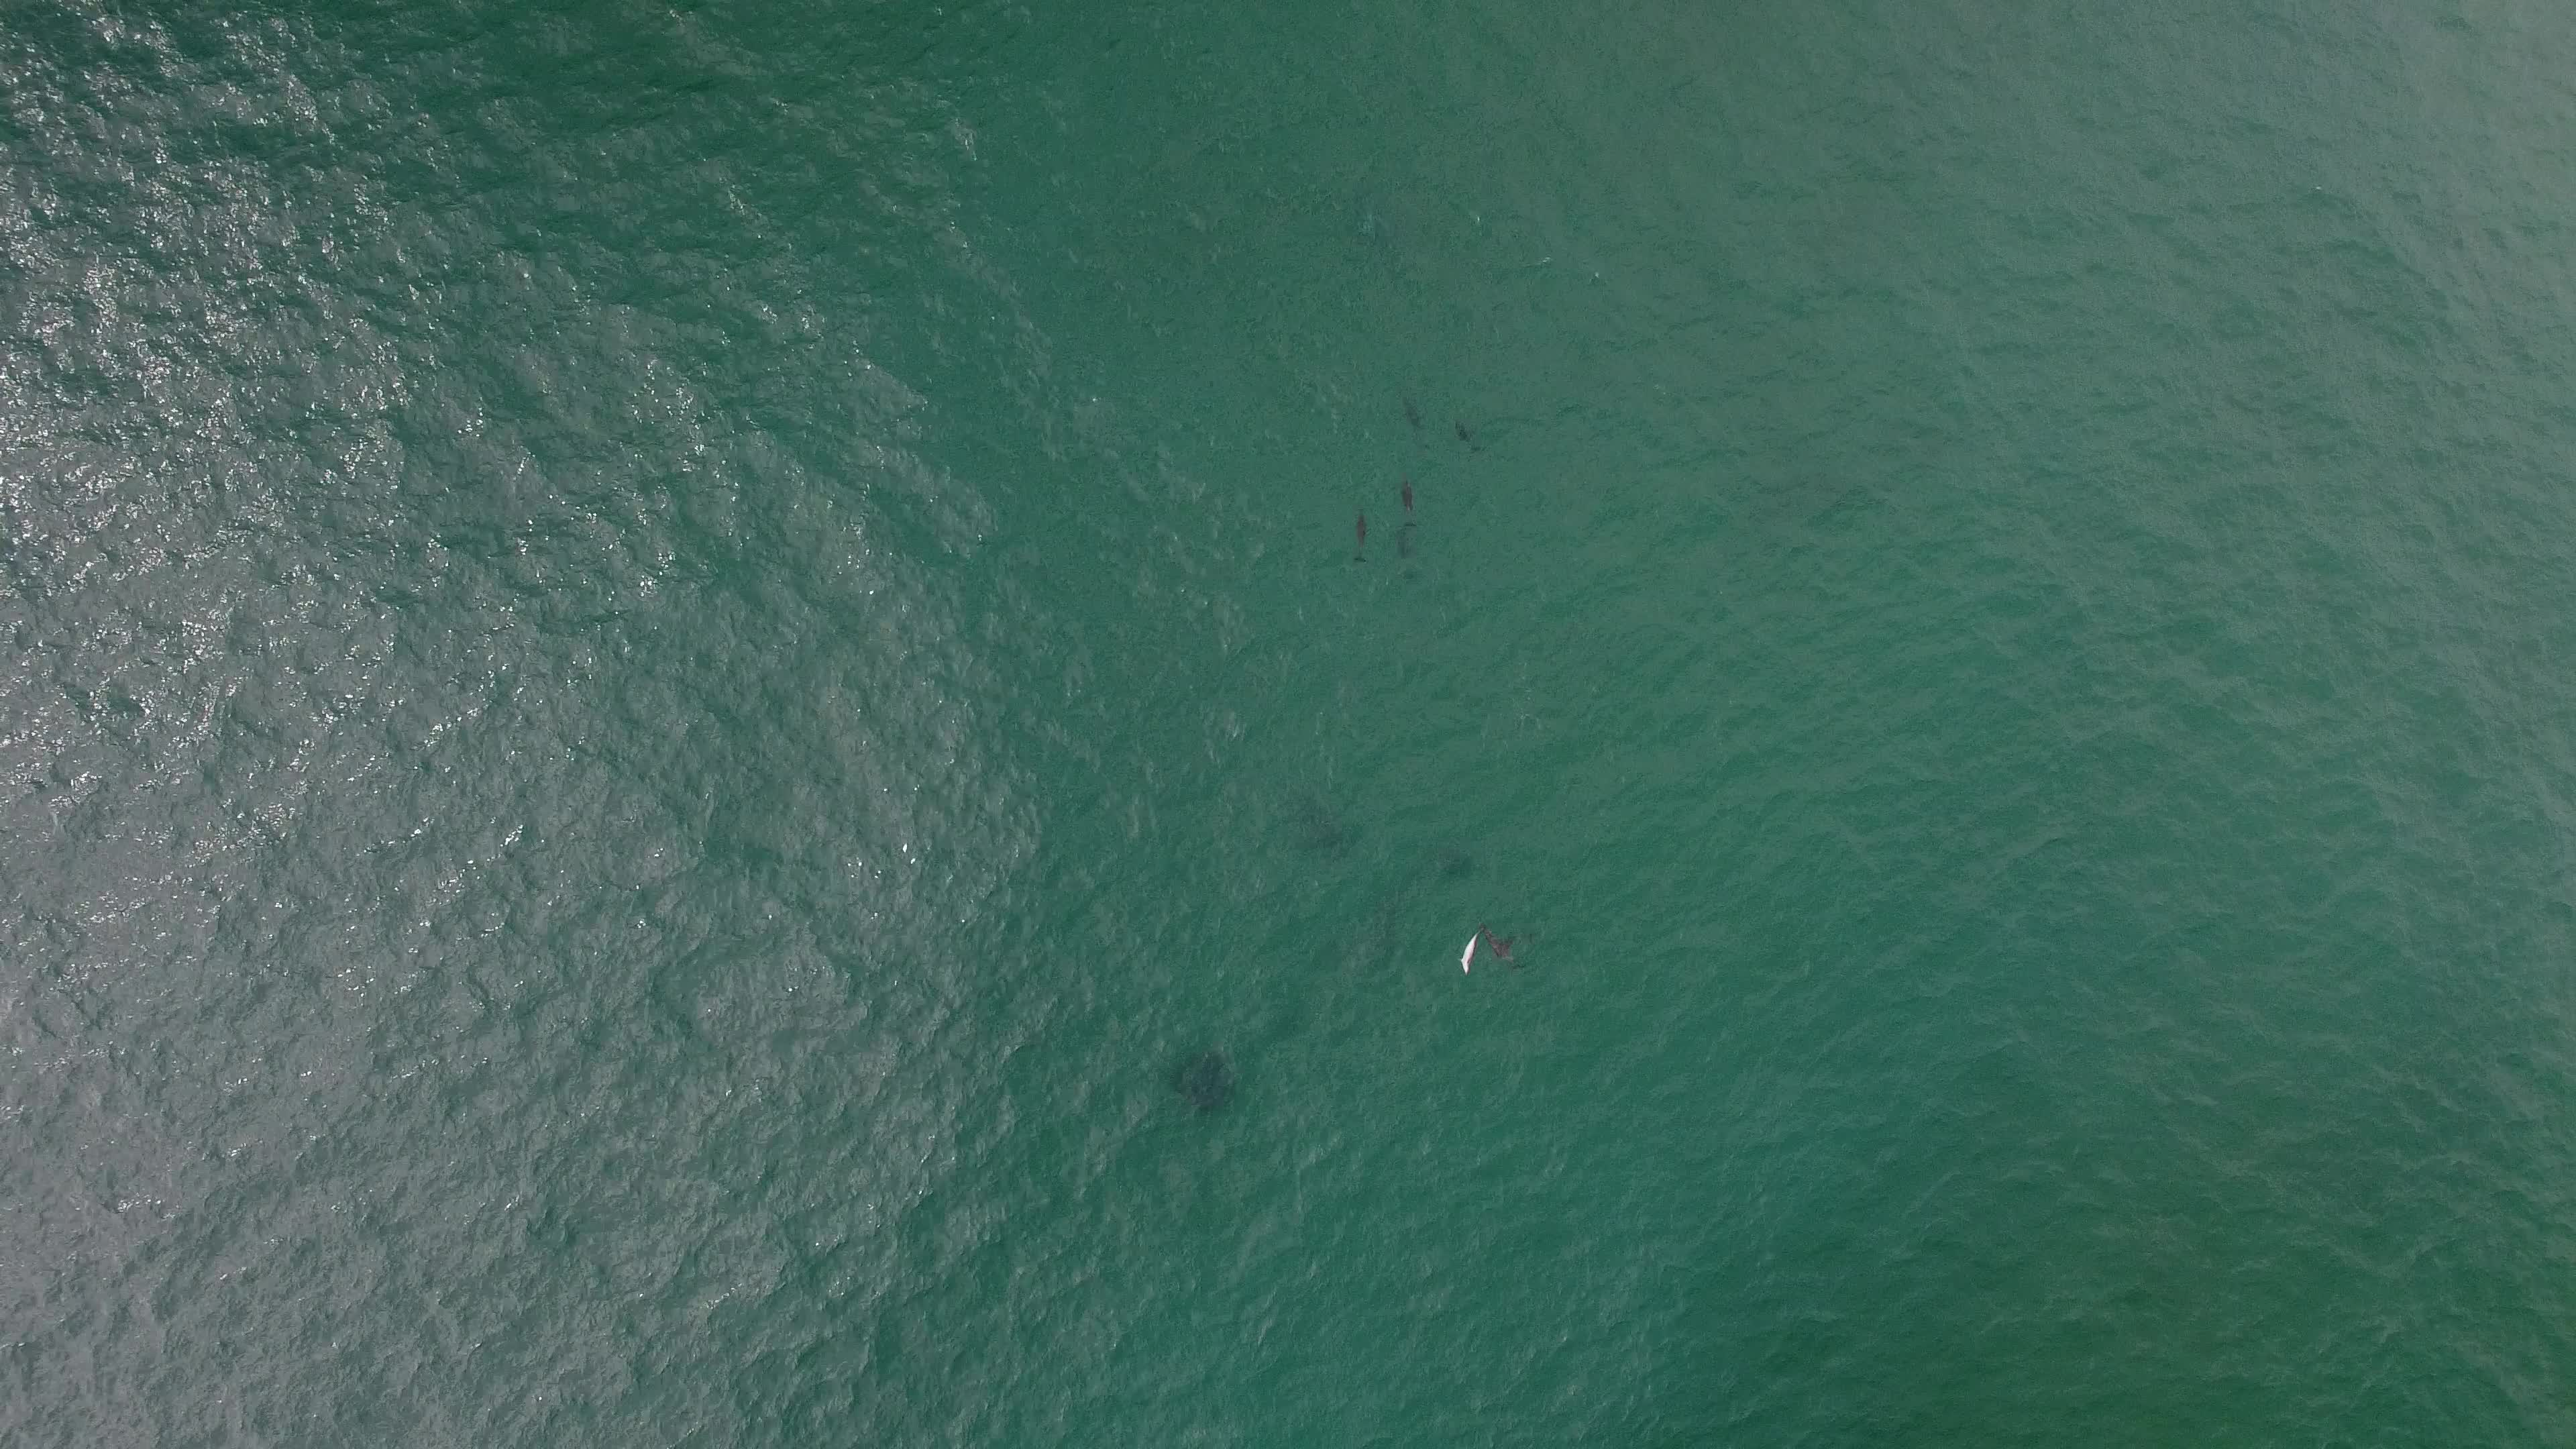dolphin: (1453, 879, 1525, 971), (1378, 453, 1431, 534), (1336, 494, 1382, 575), (1444, 920, 1483, 991), (1440, 412, 1486, 455)
